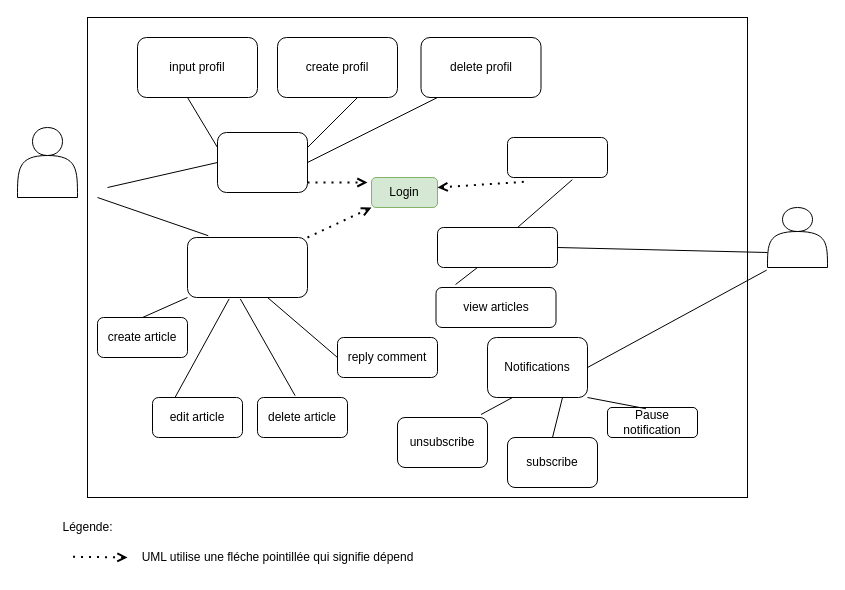
The diagram is 845 pixels wide and 590 high, and some of its shapes have lost their labels. The centre of each missing label's shape, as x and y in pixels:
"comment articles" belongs at pixel 557 157.
"manage comments" belongs at pixel 497 247.
"Manage profil" belongs at pixel 262 162.
"Posting article" belongs at pixel 247 267.
"USER" belongs at pixel 47 162.
"VIEWER" belongs at pixel 797 237.
